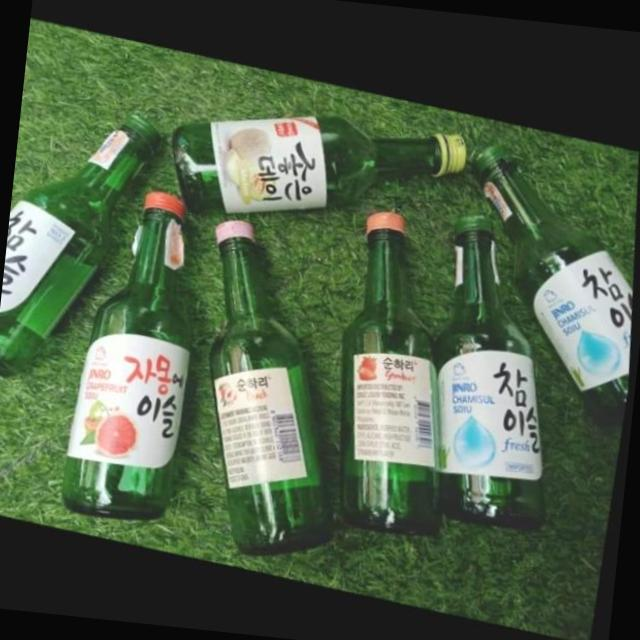chai_thuy_tinh: (62, 192, 195, 522), (0, 116, 166, 379), (476, 144, 637, 410), (211, 221, 335, 558), (435, 216, 546, 531), (341, 212, 444, 538), (176, 116, 474, 217)
